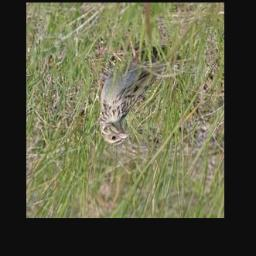Sparrow: (98, 31, 184, 148)
